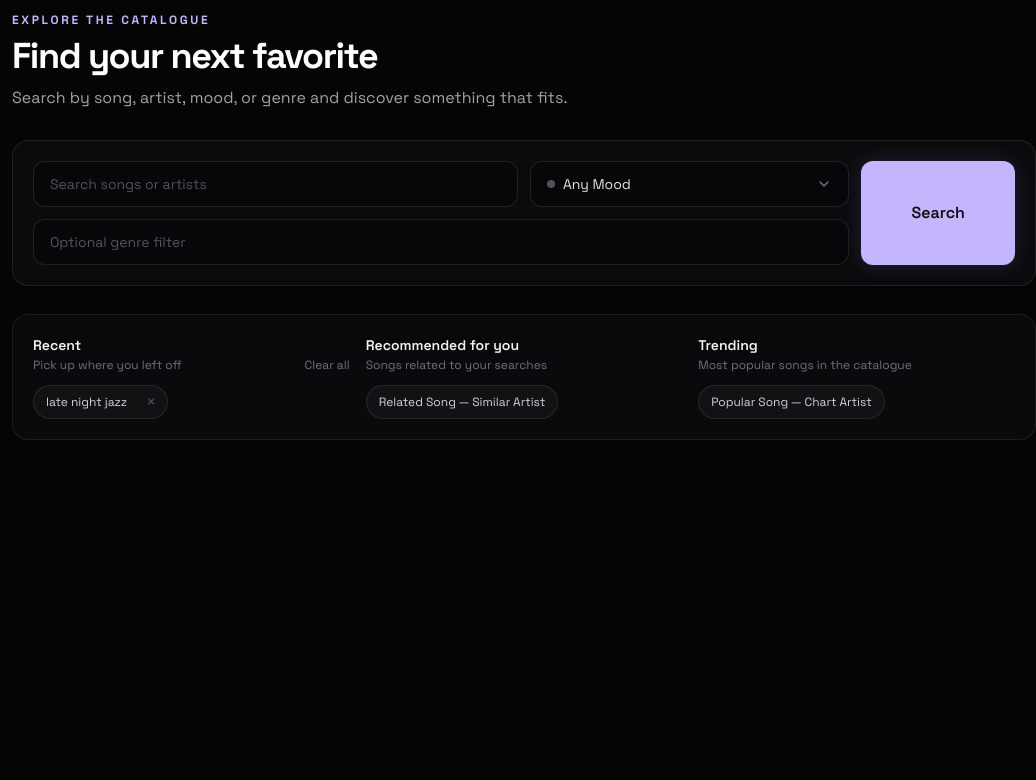
Test: hides discovery after Enter and restores it when the query changes
Expected: the element "Recommended for you" is shown, [366,336,558,419]
Type "Search Result" into the field with placeholder "Search songs or artists".
click(276, 184); type("Search Result")  # box [33,161,518,207]
Then press Enter
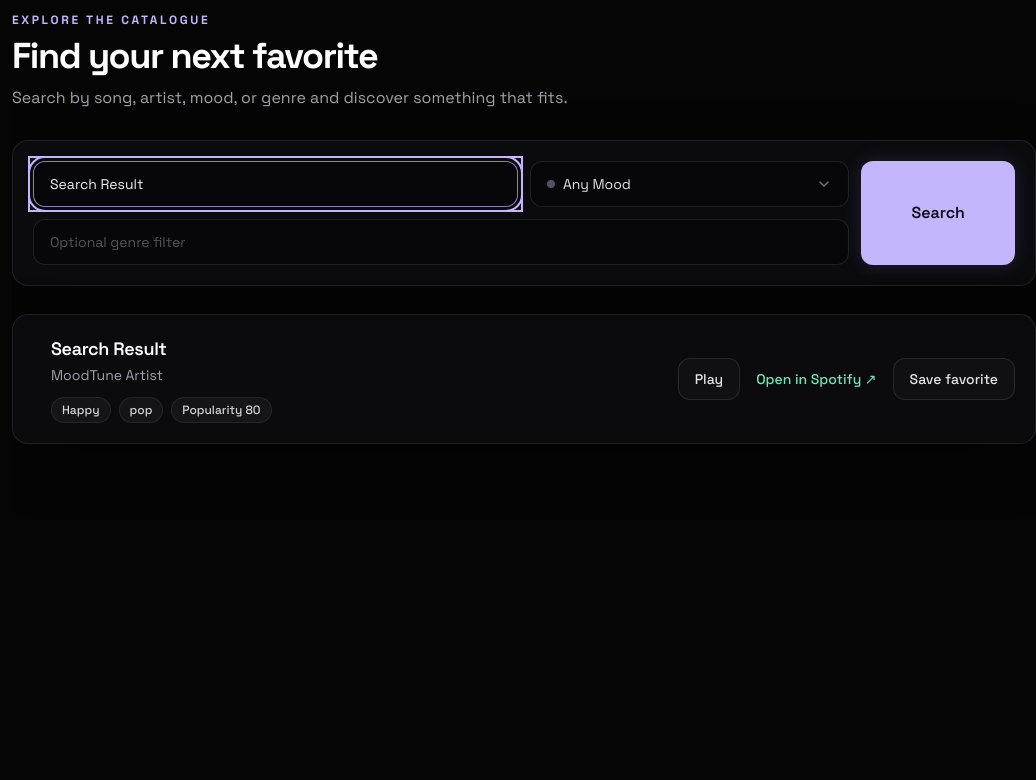
Expected: the heading "Recommended for you" is gone
Type " remix" into the field with placeholder "Search songs or artists".
click(276, 184); type(" remix")  # box [33,161,518,207]
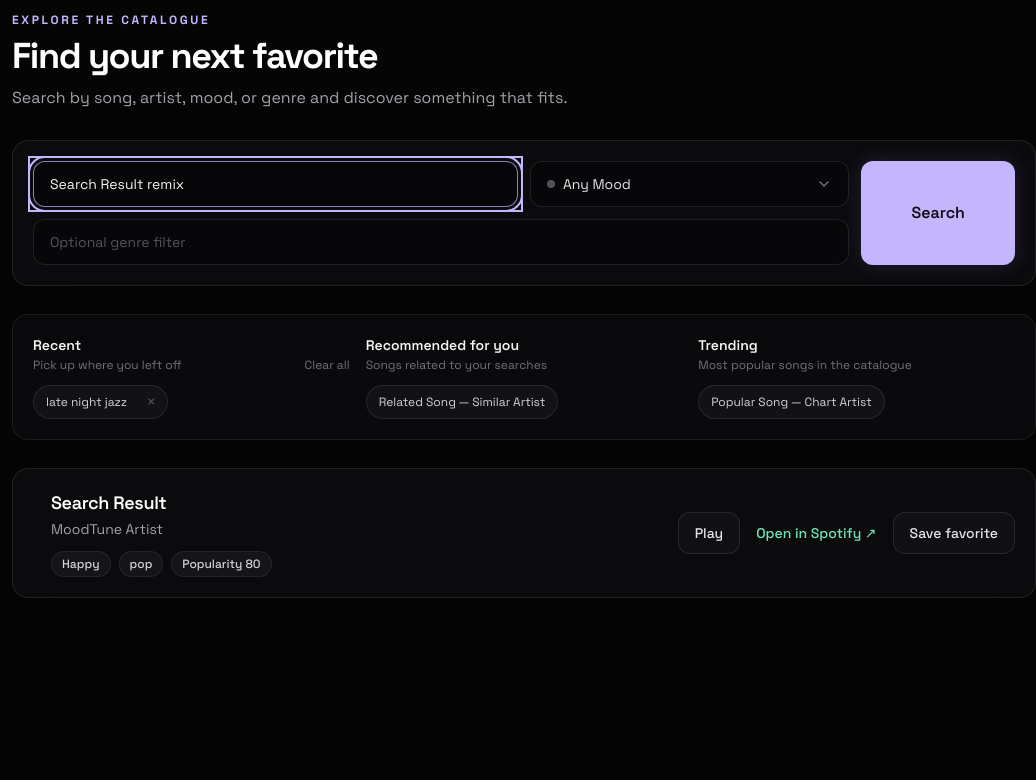
Expected: the element "Recommended for you" is shown, [366,336,558,419]
